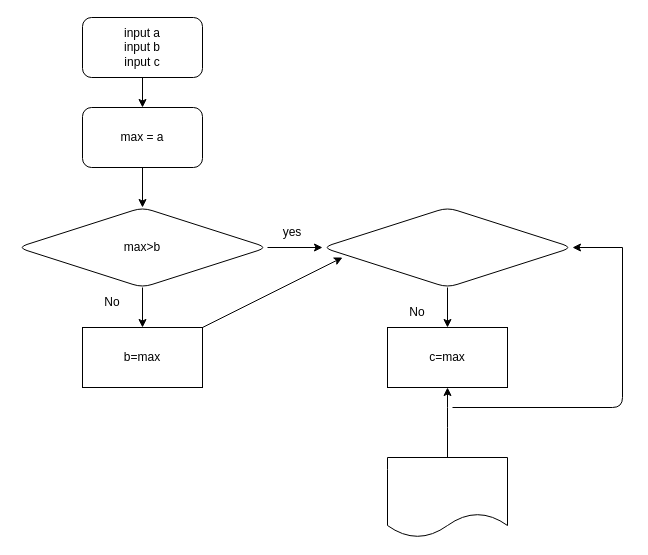
Image size: 648x555. Some labels were removed from this diagram. The shapes that lost their labels are listed below. From the top down, each one's centre as x and y in pixels, then its label:
At pixel 447 247: "max>c".
At pixel 447 497: "Print max".
